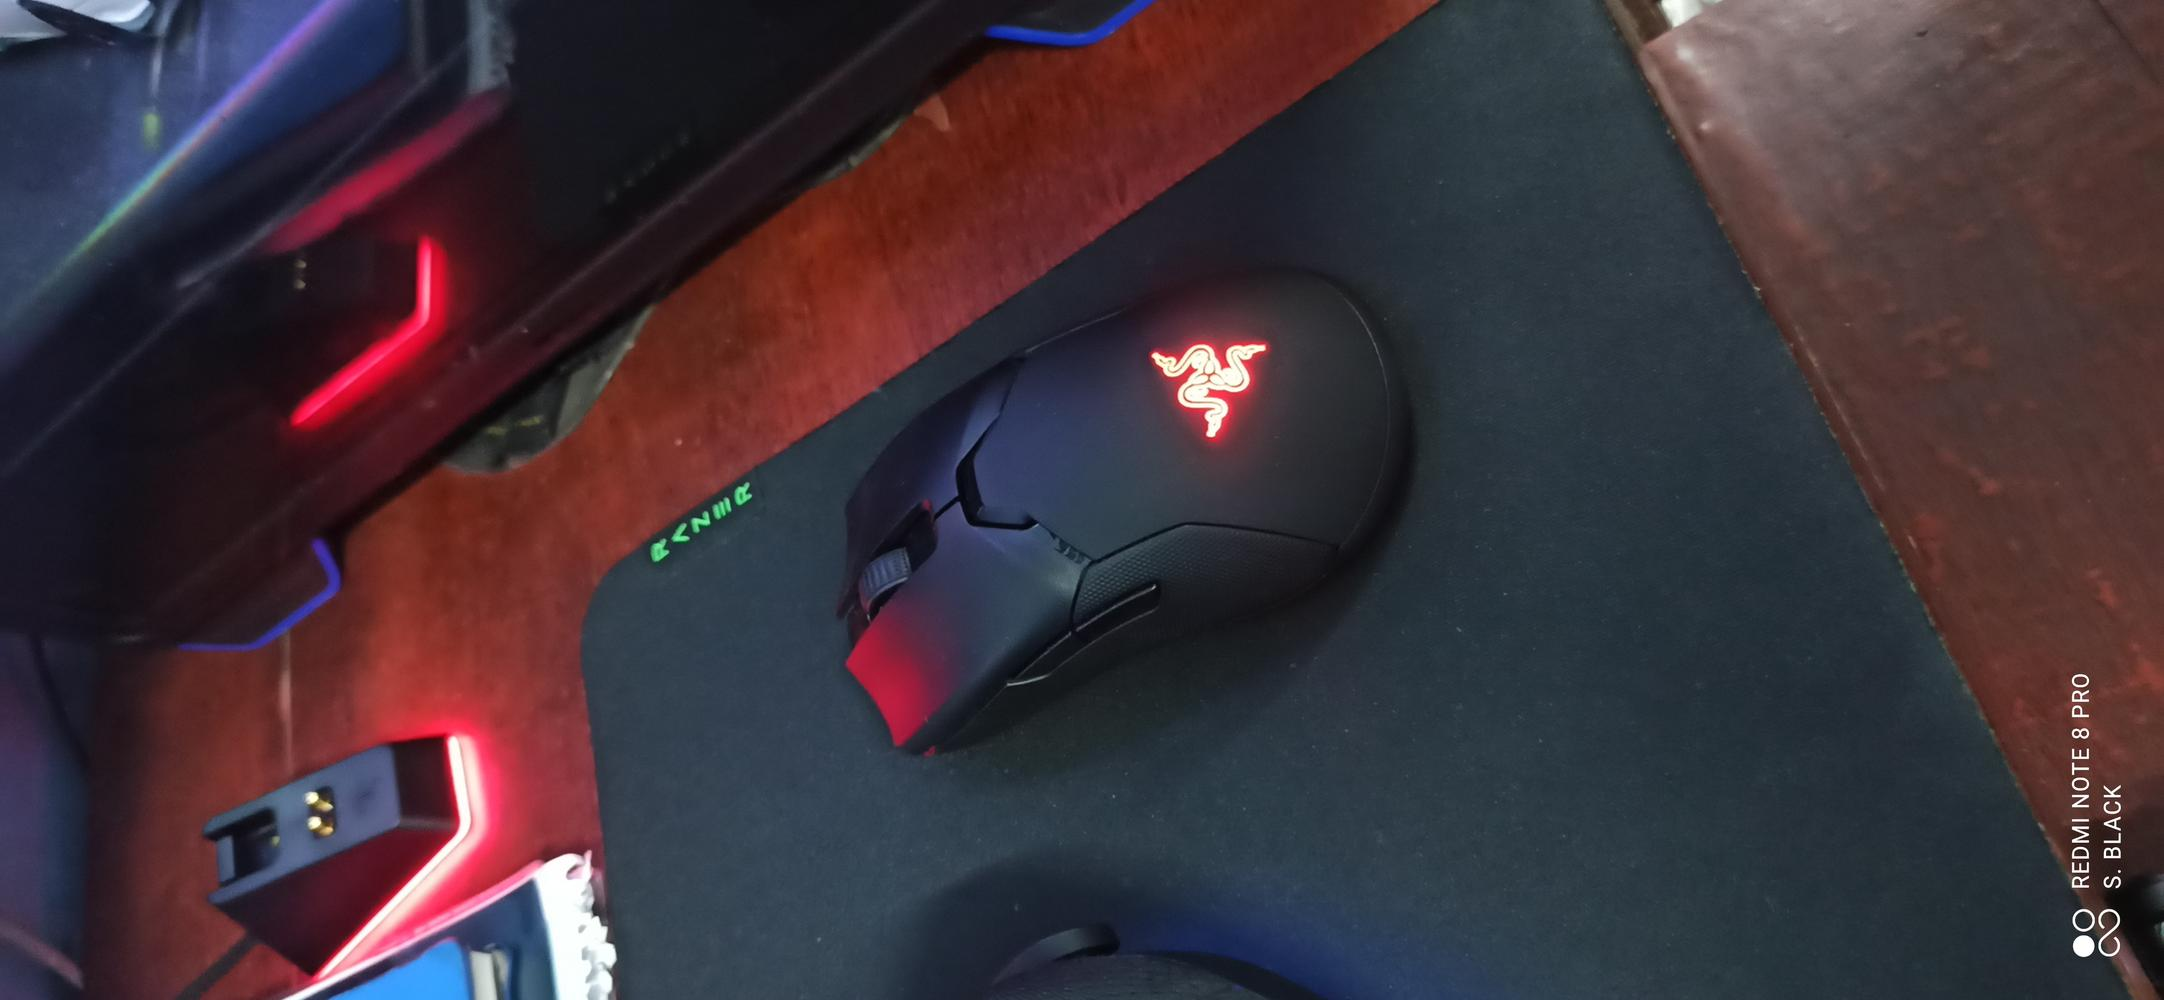Undefined Object: (4, 1, 834, 503), (843, 259, 1423, 743), (197, 708, 617, 999)
